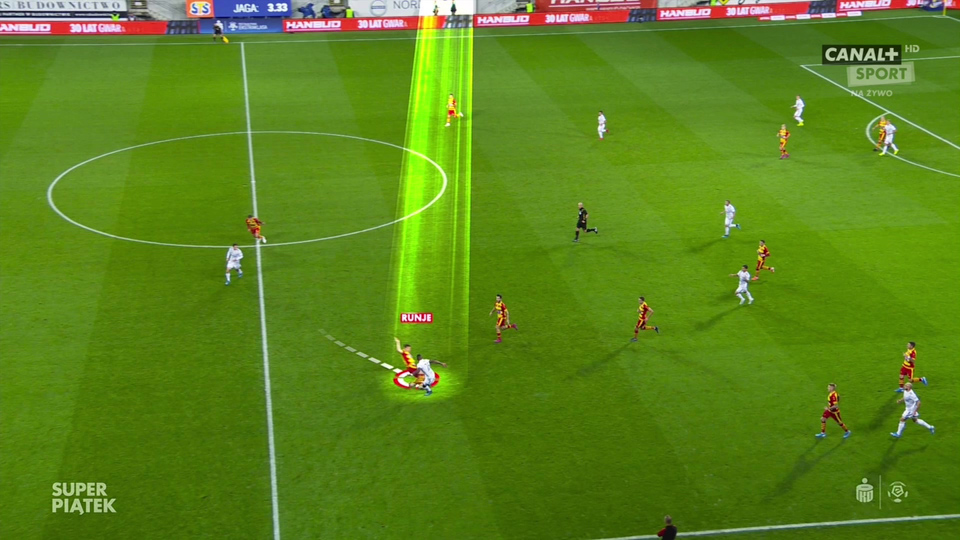pko: (849, 474, 875, 506), (213, 19, 224, 31)
